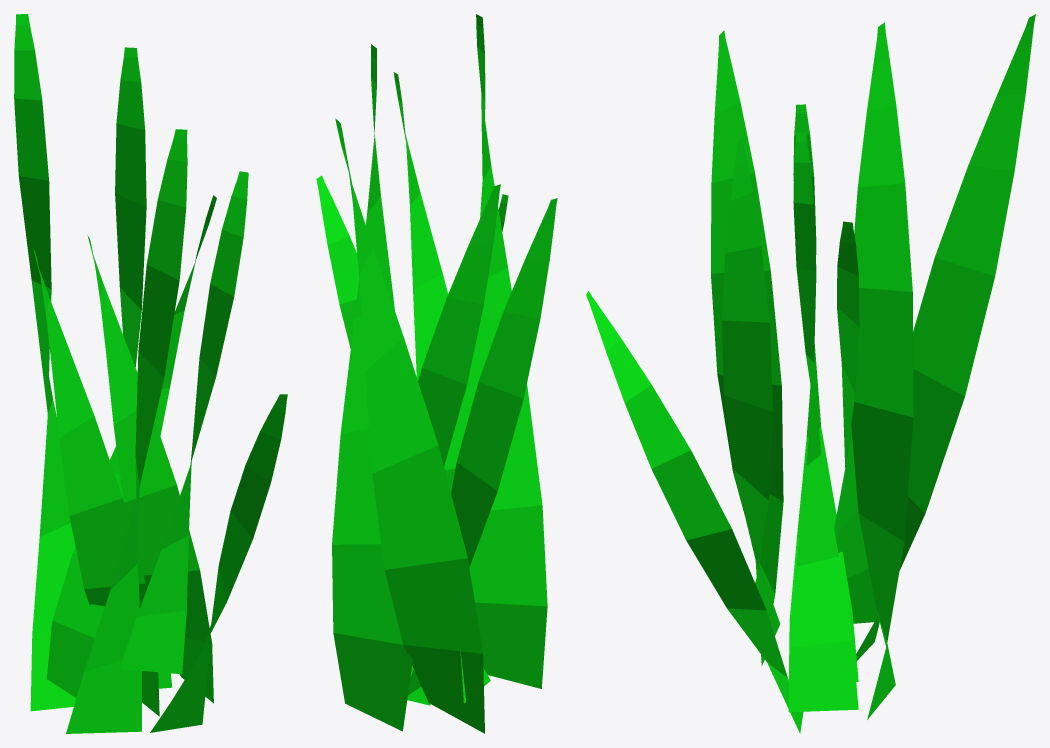
The model's file is Grass.fbx.
3 views of the same model, side by side, from view 1: azimuth 30°, elevation 25°; view 2: azimuth 150°, elevation 25°; view 3: azimuth 270°, elevation 25° (orthographic). The views are drawn at different scales.
Parts seen in each view (by area): view 1: Plane.001; view 2: Plane.001; view 3: Plane.001.
Boxes of the visible parts, box(x1,y1,x2,y2) form: Plane.001: box(14, 14, 287, 733); Plane.001: box(316, 14, 557, 733); Plane.001: box(586, 14, 1035, 733).
Size of the model in its own units: 71.88 by 221 by 130.
